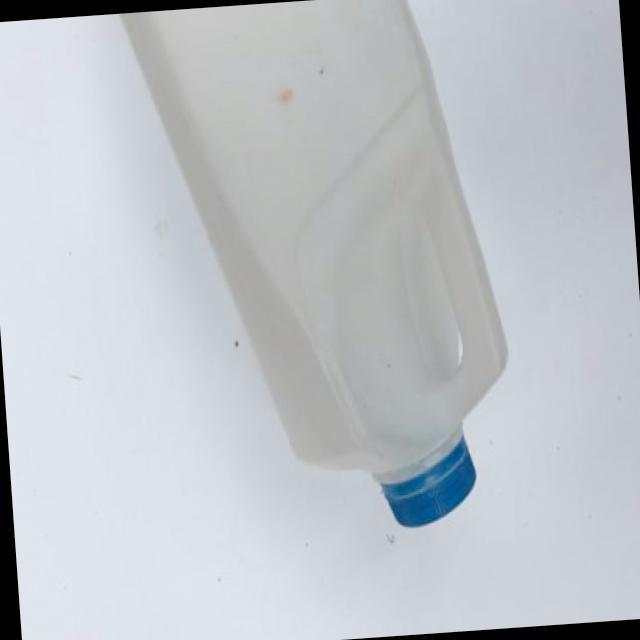HDPE Plastic: (98, 1, 513, 537)
